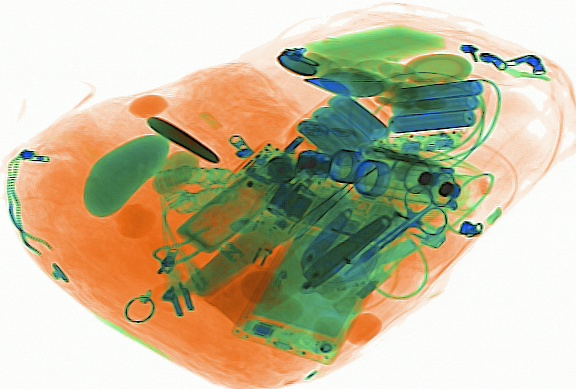powerbank: (291, 88, 390, 164), (385, 77, 485, 148)
scissors: (344, 181, 450, 276)
